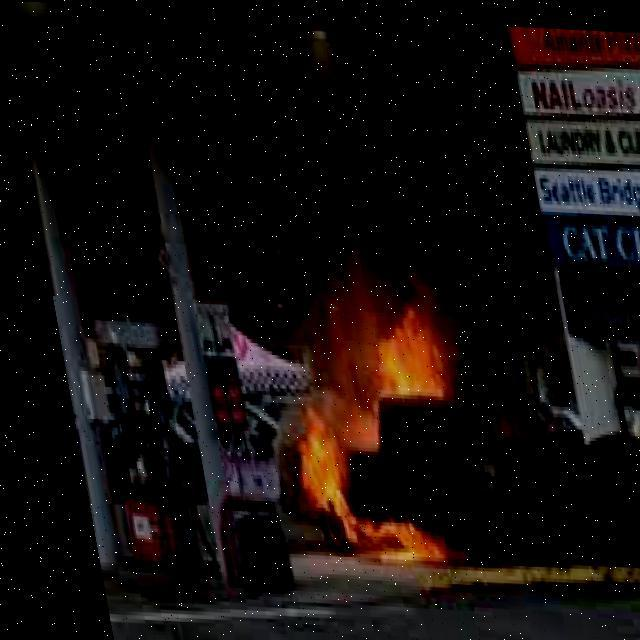Fire: (252, 298, 476, 568)
